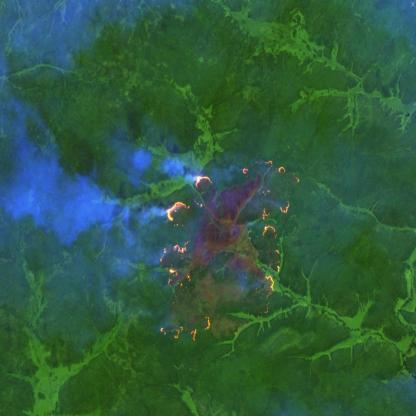fire: (146, 132, 297, 342)
